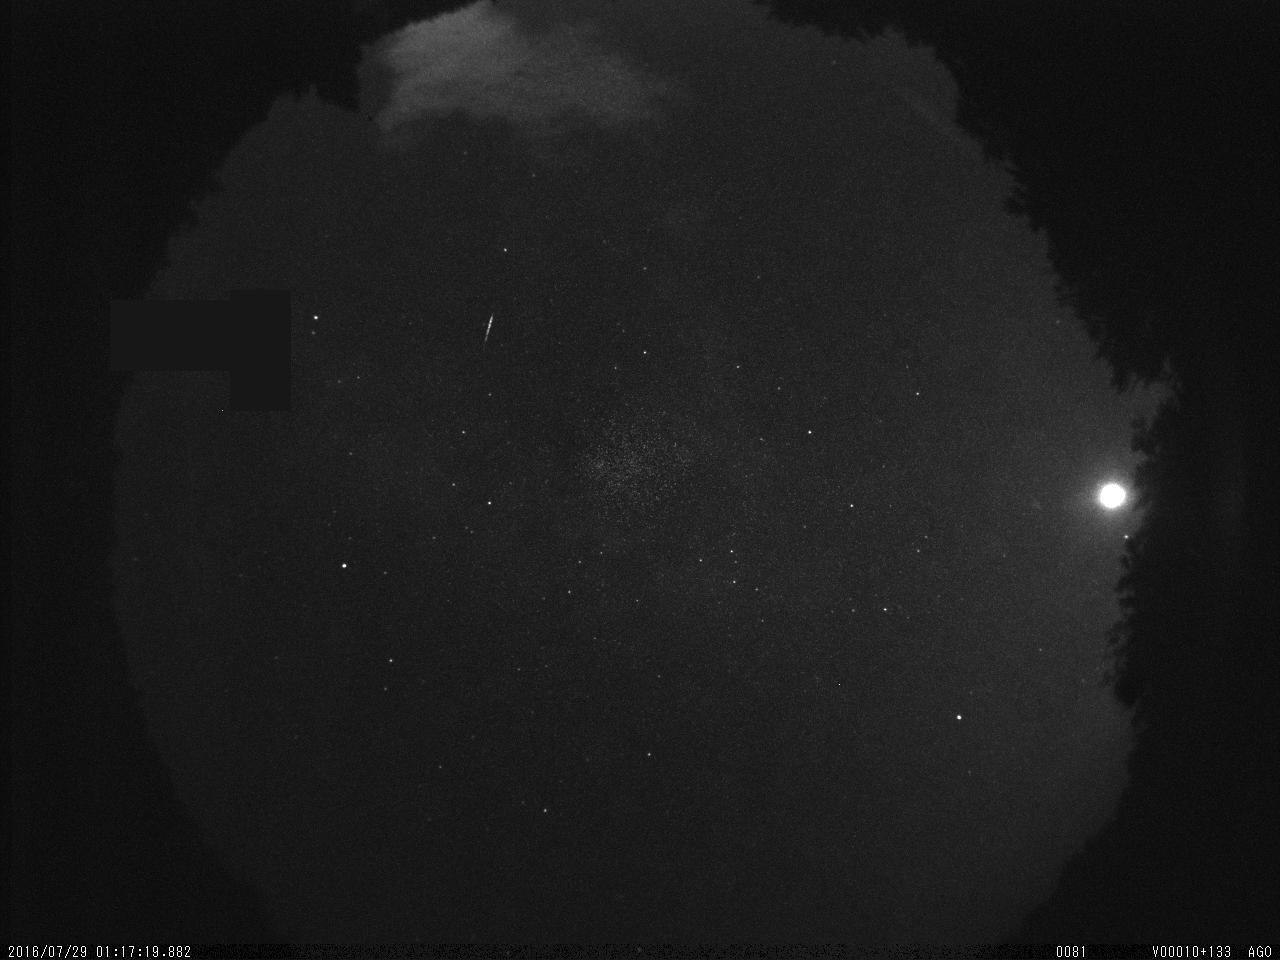Meteor: (480, 310, 495, 346)
